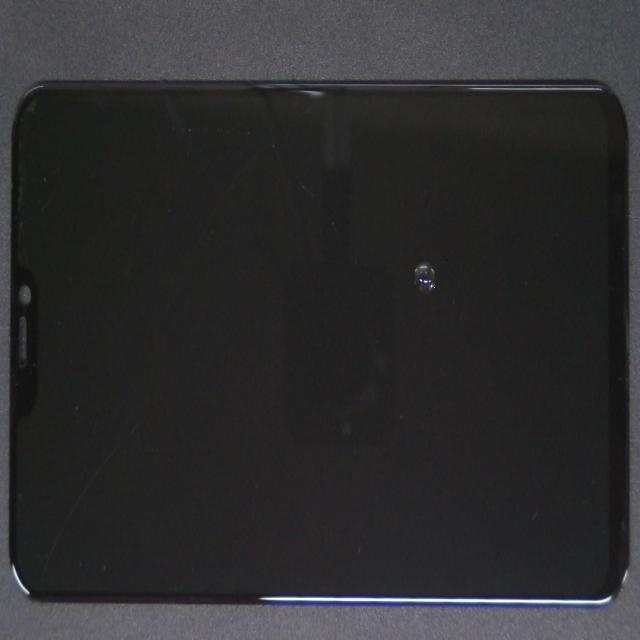oil: (191, 111, 620, 426)
